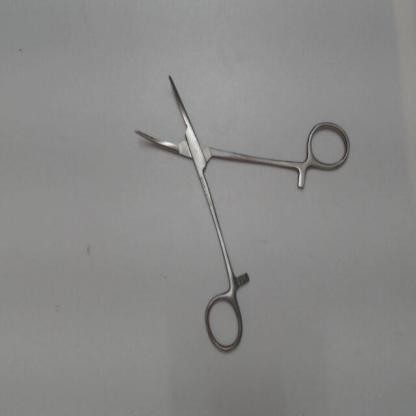Crile Artery Forceps: (122, 64, 355, 360)
